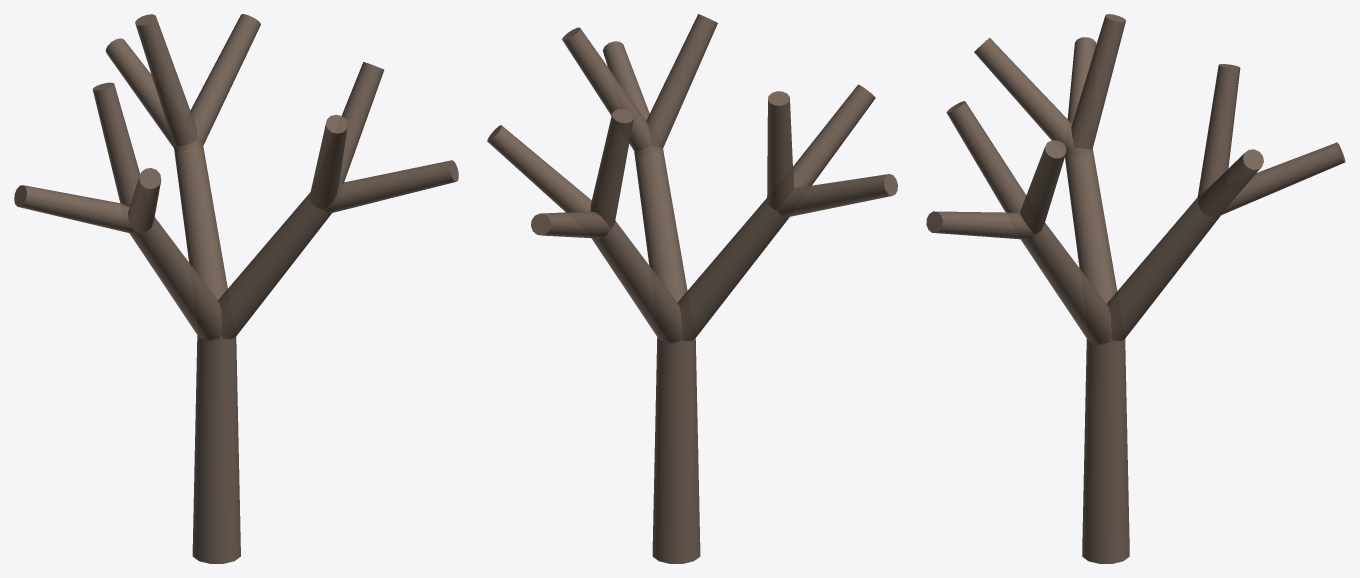
Rendered from fractaltree1_2.glb.
The picture shows the model from 3 angles, left to right: view 1: azimuth 30°, elevation 25°; view 2: azimuth 150°, elevation 25°; view 3: azimuth 270°, elevation 25°; orthographic projection.
Bounding box in the file's own units: 5.36 × 6.86 × 5.36.
